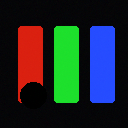2 circle: (20, 82, 46, 108)
